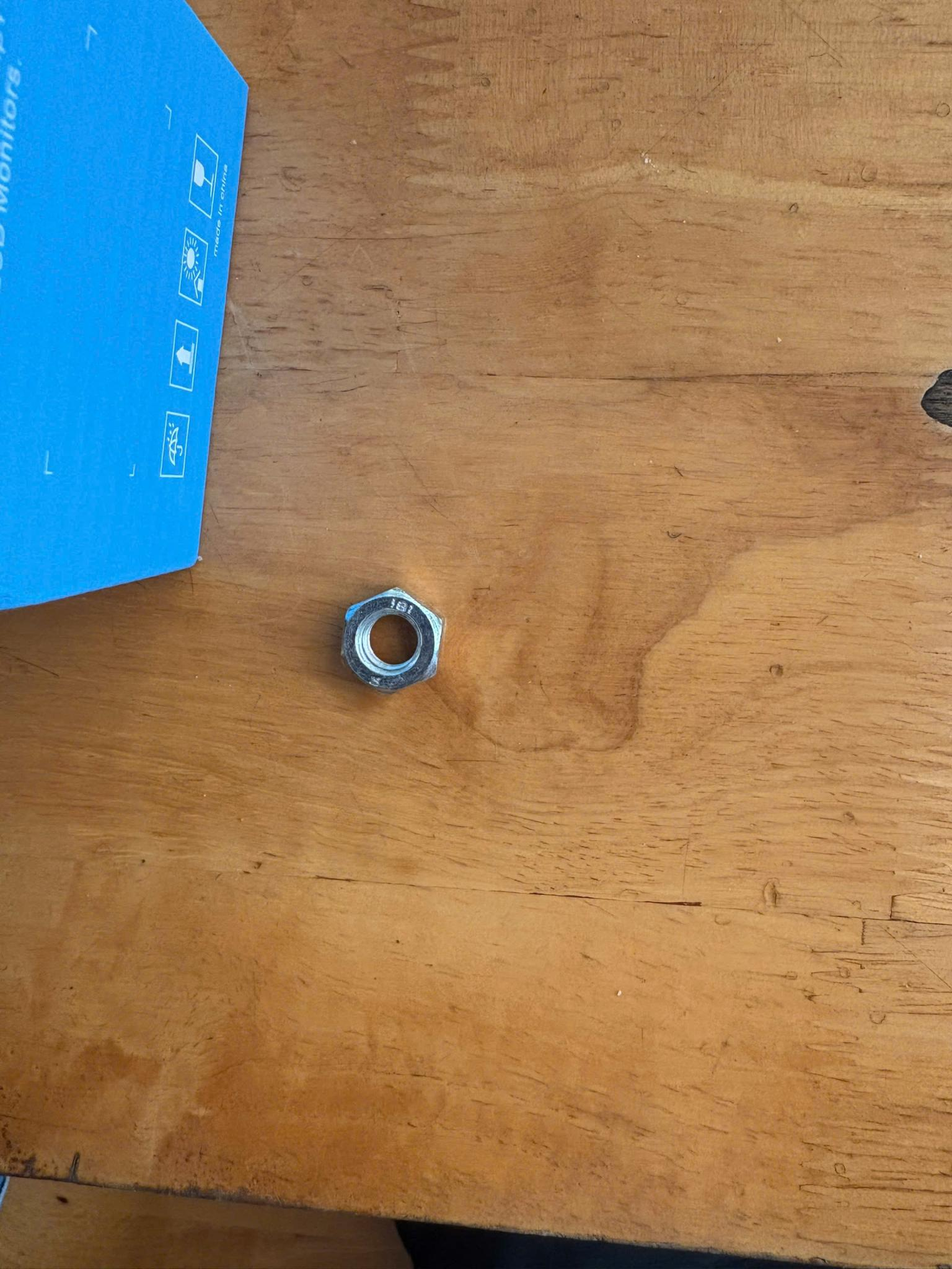nut: (335, 580, 462, 710)
